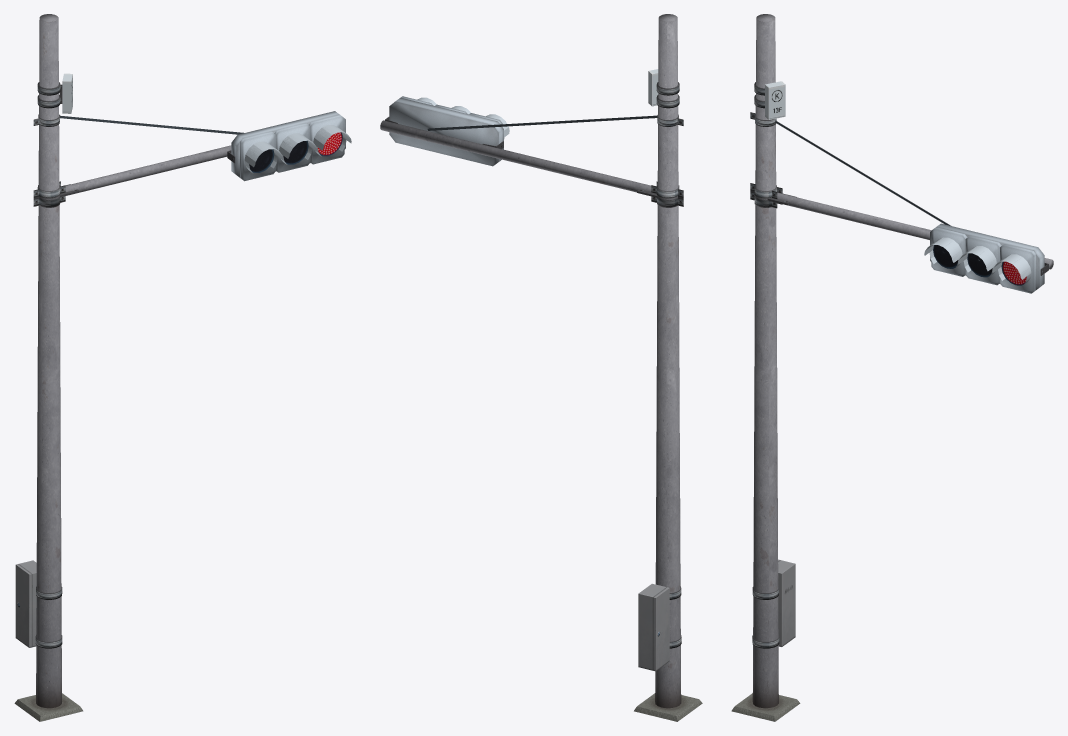
Rendered from Traffic_light_Auto_1.fbx.
3 views of the same model, side by side, from view 1: azimuth 30°, elevation 25°; view 2: azimuth 150°, elevation 25°; view 3: azimuth 330°, elevation 25° (orthographic).
Parts seen in each view (by area): view 1: 00_pillar, 30_Auto_light, 80_box_L, 10_Auto_bar, 86_box_SS, 20_Auto_latch_bar; view 2: 00_pillar, 30_Auto_light, 10_Auto_bar, 80_box_L, 86_box_SS, 20_Auto_latch_bar; view 3: 00_pillar, 30_Auto_light, 80_box_L, 10_Auto_bar, 86_box_SS, 20_Auto_latch_bar.
Part boxes in pixels (box(x1,y1,x2,y2)): 00_pillar: box(14, 14, 83, 721); 30_Auto_light: box(60, 111, 351, 181); 80_box_L: box(15, 560, 62, 648); 10_Auto_bar: box(65, 145, 231, 192); 86_box_SS: box(37, 73, 72, 113); 20_Auto_latch_bar: box(33, 181, 79, 207); 00_pillar: box(634, 14, 702, 721); 30_Auto_light: box(385, 96, 657, 166); 10_Auto_bar: box(380, 120, 651, 192); 80_box_L: box(638, 583, 681, 671); 86_box_SS: box(648, 69, 679, 108); 20_Auto_latch_bar: box(637, 181, 683, 207); 00_pillar: box(731, 14, 800, 721); 30_Auto_light: box(775, 120, 1048, 293); 80_box_L: box(752, 559, 795, 648); 10_Auto_bar: box(777, 192, 1053, 269); 86_box_SS: box(754, 81, 785, 119); 20_Auto_latch_bar: box(750, 183, 796, 208).
Size of the model in its own units: 3.51 by 7.5 by 0.919.
